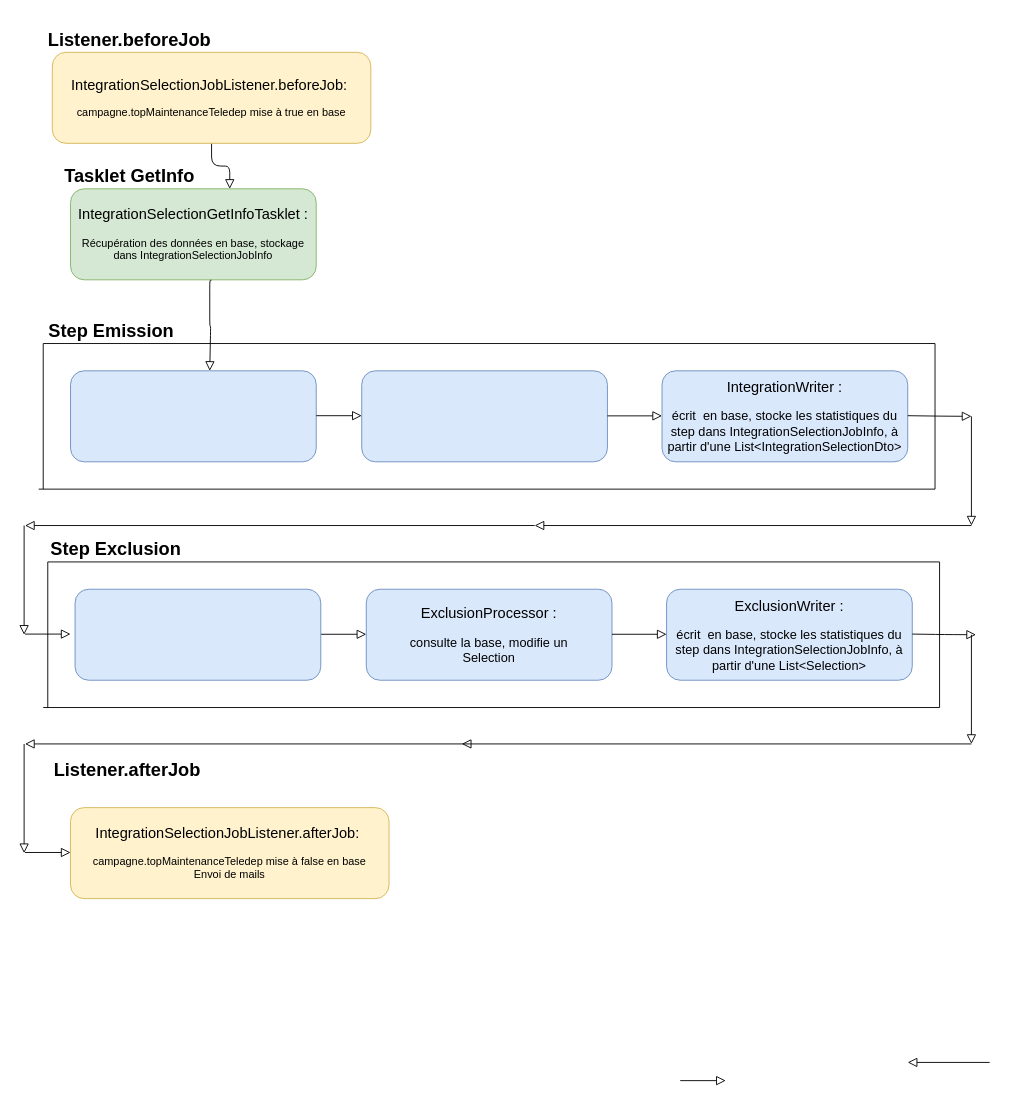
This 1015x1106 diagram has some shape labels left out. The centre of each missing label's shape, as x and y in pixels:
"ExclusionReader : consulte la base, retourne un Selection" goes at (197,634).
"IntegrationProcessor : consulte la base, modifie un IntegrationSelectionDto" goes at (484,416).
"IntegrationReader : consulte la base, retourne un IntegrationSelectionDto" goes at (193,416).
